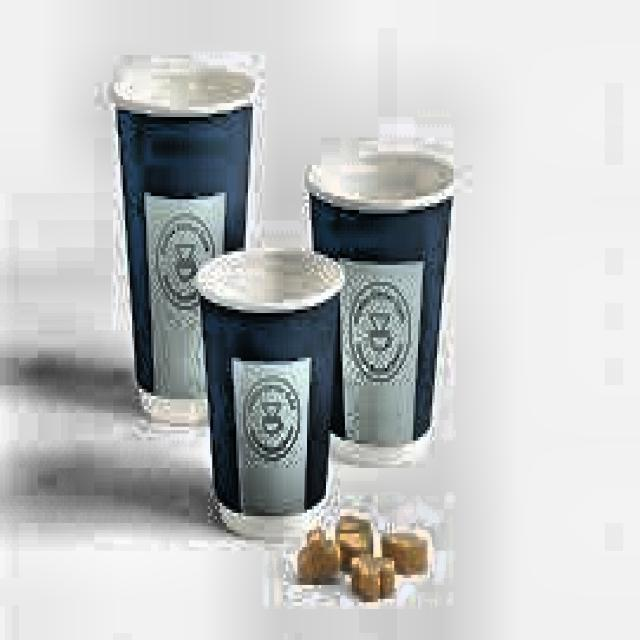Cup: (113, 49, 255, 460), (306, 135, 456, 469), (199, 223, 343, 552)
